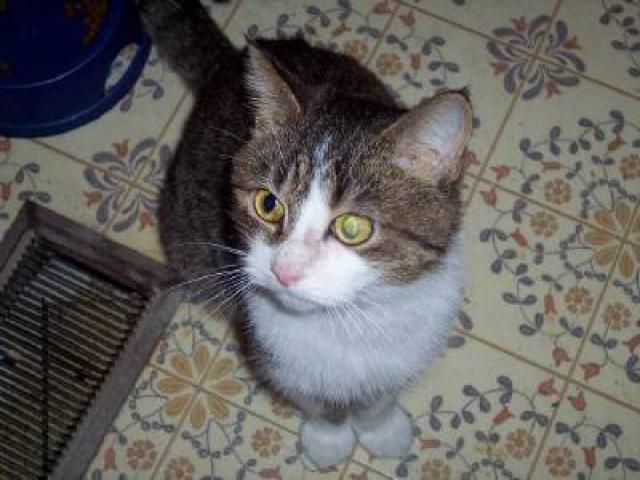cat: (134, 1, 481, 472)
